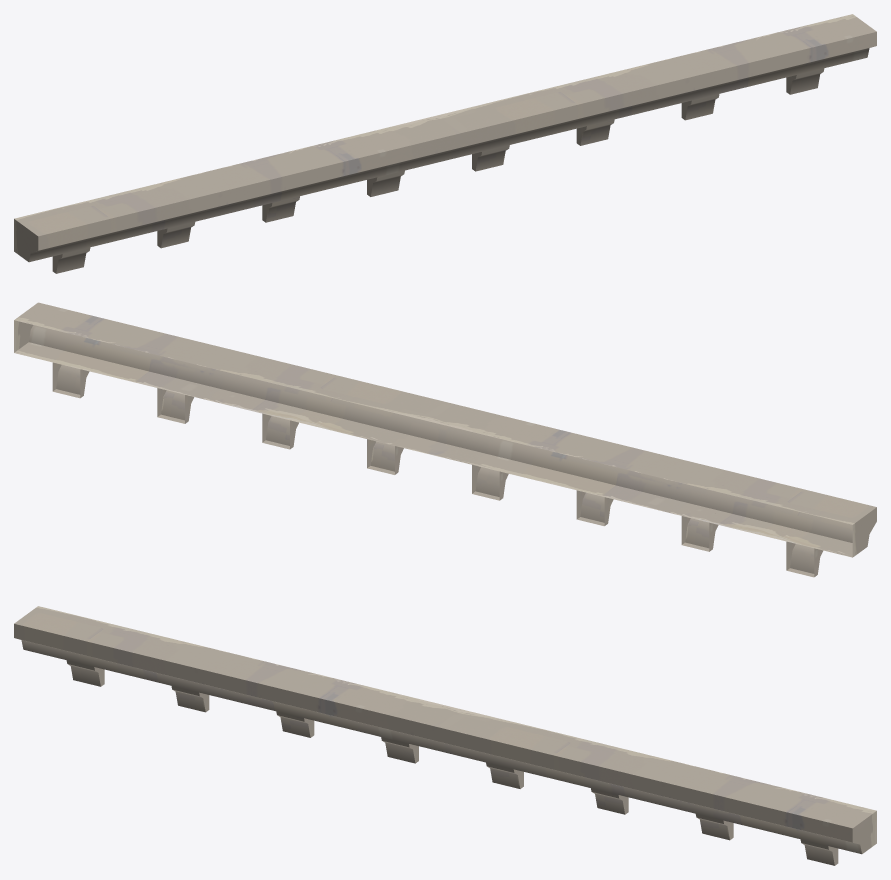
Rendered from MOD_WallTrim_03_01_large.fbx.
3 views of the same model, one above another, from view 1: azimuth 30°, elevation 25°; view 2: azimuth 150°, elevation 25°; view 3: azimuth 330°, elevation 25° (orthographic).
Visible parts, largest first — view 1: MOD_WallTrim_03_01_large; view 2: MOD_WallTrim_03_01_large; view 3: MOD_WallTrim_03_01_large.
Boxes of the visible parts, box(x1,y1,x2,y2) form: MOD_WallTrim_03_01_large: box(14, 14, 876, 273); MOD_WallTrim_03_01_large: box(14, 302, 876, 577); MOD_WallTrim_03_01_large: box(14, 606, 876, 865).
Size of the model in its own units: 800 by 56.55 by 40.
